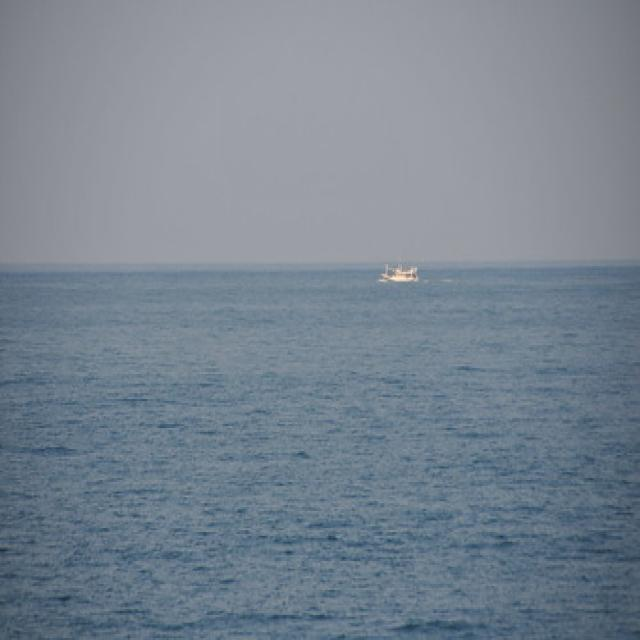fishing boat: (376, 254, 431, 300)
